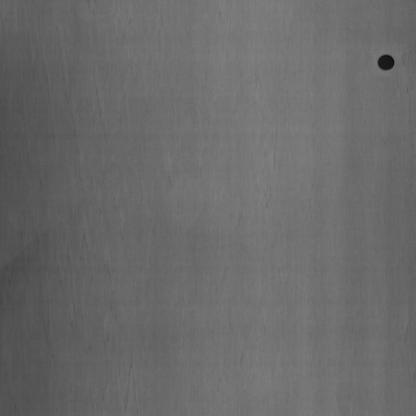punching_hole: (373, 50, 397, 75)
